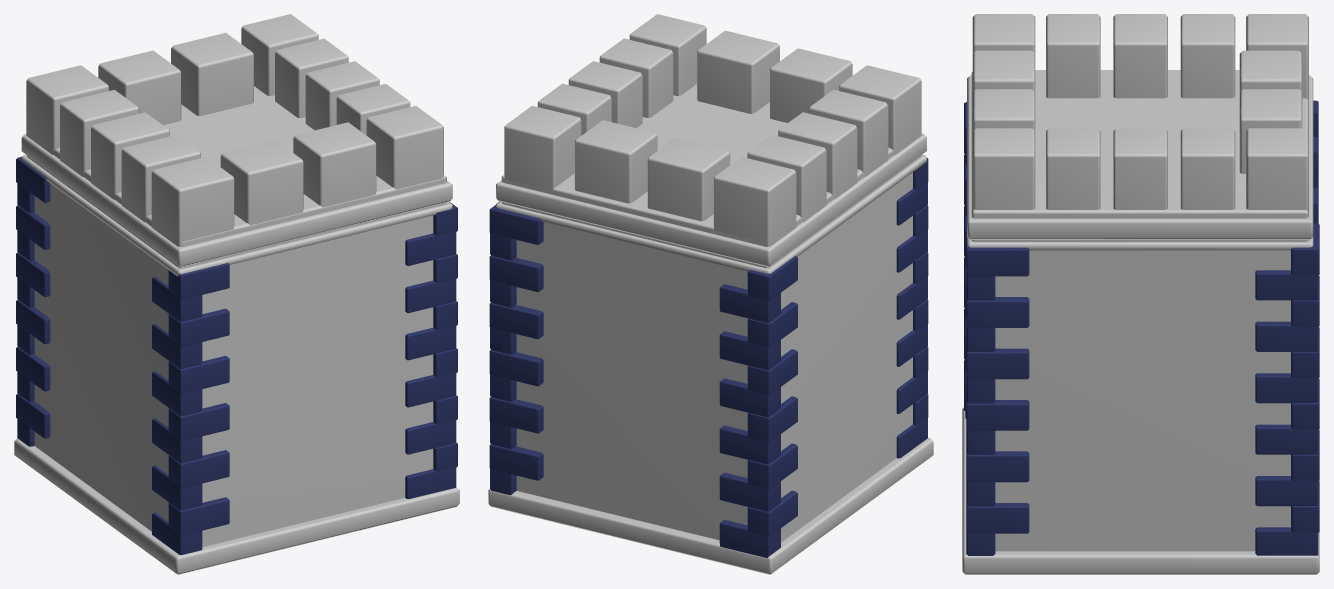
File: standard_peice.fbx
3 renders of one model, left to right at view 1: azimuth 30°, elevation 25°; view 2: azimuth 150°, elevation 25°; view 3: azimuth 270°, elevation 25°, orthographic. The views are drawn at different scales.
Parts seen in each view (by area): view 1: standard_piece; view 2: standard_piece; view 3: standard_piece.
Part boxes in pixels (bbox=[...]): standard_piece: bbox=[14, 14, 459, 574]; standard_piece: bbox=[488, 14, 933, 574]; standard_piece: bbox=[962, 14, 1319, 574].
Size of the model in its own units: 416 by 532 by 415.
